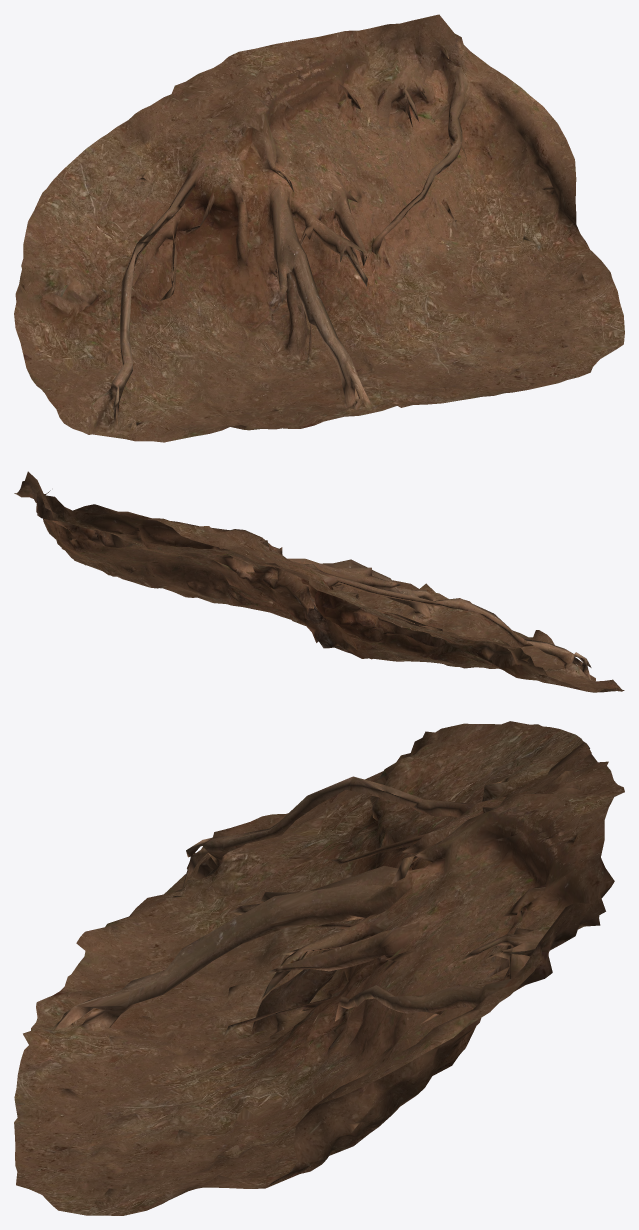
The model's file is root_cluster_01.glb.
3 renders of one model, top to bottom at view 1: azimuth 30°, elevation 25°; view 2: azimuth 150°, elevation 25°; view 3: azimuth 270°, elevation 25°, orthographic. The views are drawn at different scales.
Parts seen in each view (by area): view 1: root_cluster_01; view 2: root_cluster_01; view 3: root_cluster_01.
Boxes of the visible parts, x1,y1,x2,y2 form: root_cluster_01: (14,14,624,442); root_cluster_01: (14,471,624,692); root_cluster_01: (14,721,624,1215).
Bounding box in the file's own units: 4.12 × 1.5 × 2.68.
1 material, 1 textured.
